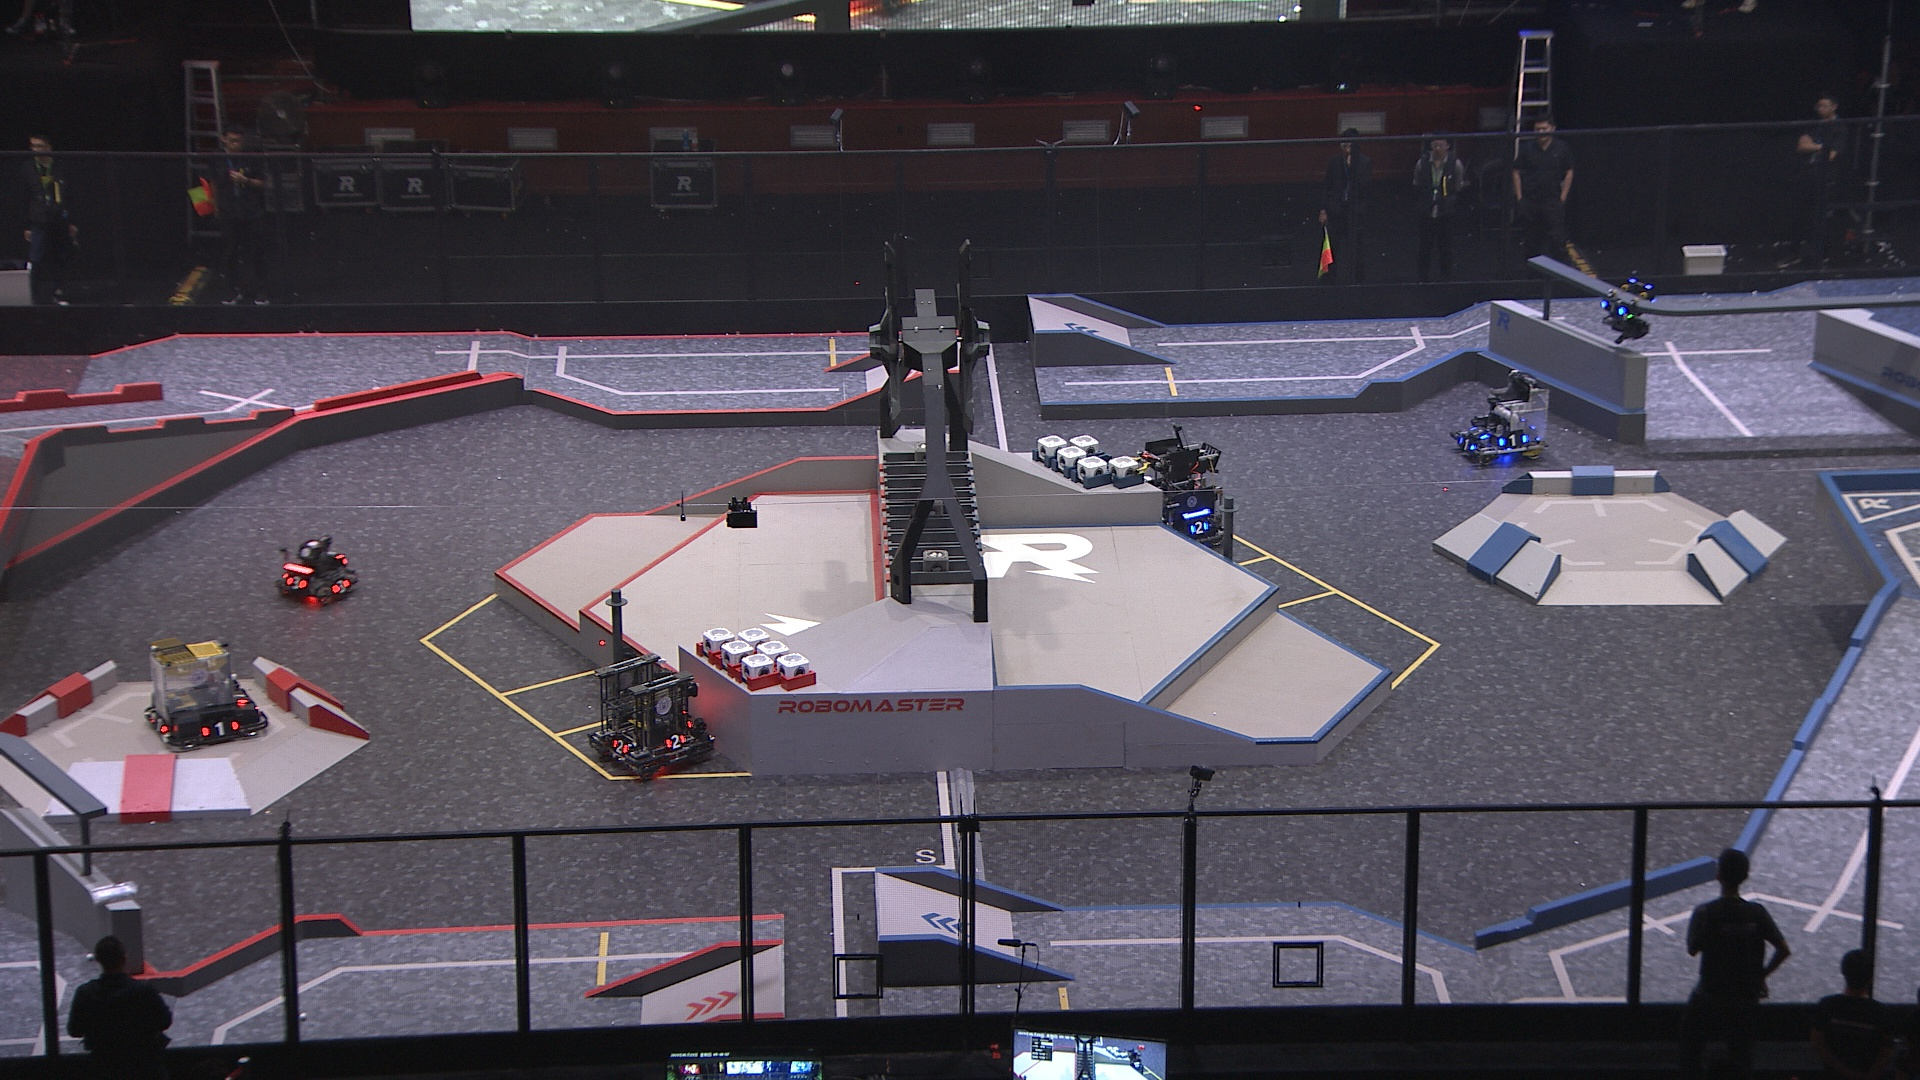armor: (200, 721, 237, 738), (1600, 295, 1626, 319), (148, 713, 167, 740), (1499, 433, 1528, 448), (662, 732, 688, 749), (1456, 436, 1480, 452), (287, 572, 306, 589), (609, 737, 626, 756), (1470, 423, 1490, 439), (1189, 522, 1212, 535), (332, 578, 351, 593), (231, 687, 247, 705), (327, 550, 345, 560)
car: (589, 646, 717, 778), (138, 632, 272, 752), (1134, 433, 1233, 553), (1448, 371, 1549, 467), (272, 534, 361, 613)
watcher: (1596, 277, 1656, 345)
